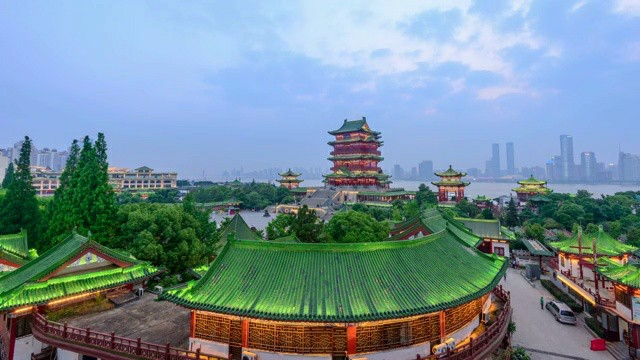Teng: (322, 117, 406, 202)
